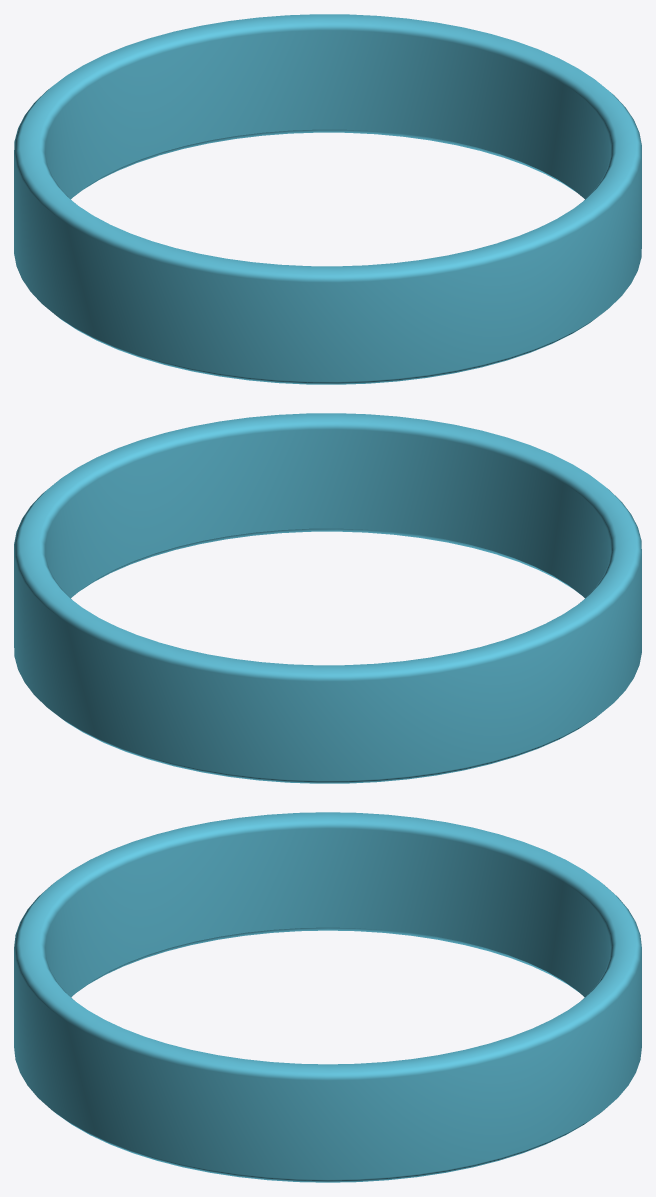
3 views of the same model, one above another, from view 1: azimuth 30°, elevation 25°; view 2: azimuth 150°, elevation 25°; view 3: azimuth 270°, elevation 25° (orthographic).
Visible parts, largest first — view 1: seal_body; view 2: seal_body; view 3: seal_body.
Boxes of the visible parts, x1,y1,x2,y2 form: seal_body: (14,14,641,384); seal_body: (14,413,641,783); seal_body: (14,812,641,1182).
Size of the model in its own units: 0.05 by 0.0097 by 0.05.
